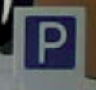parking: (26, 15, 78, 70)
